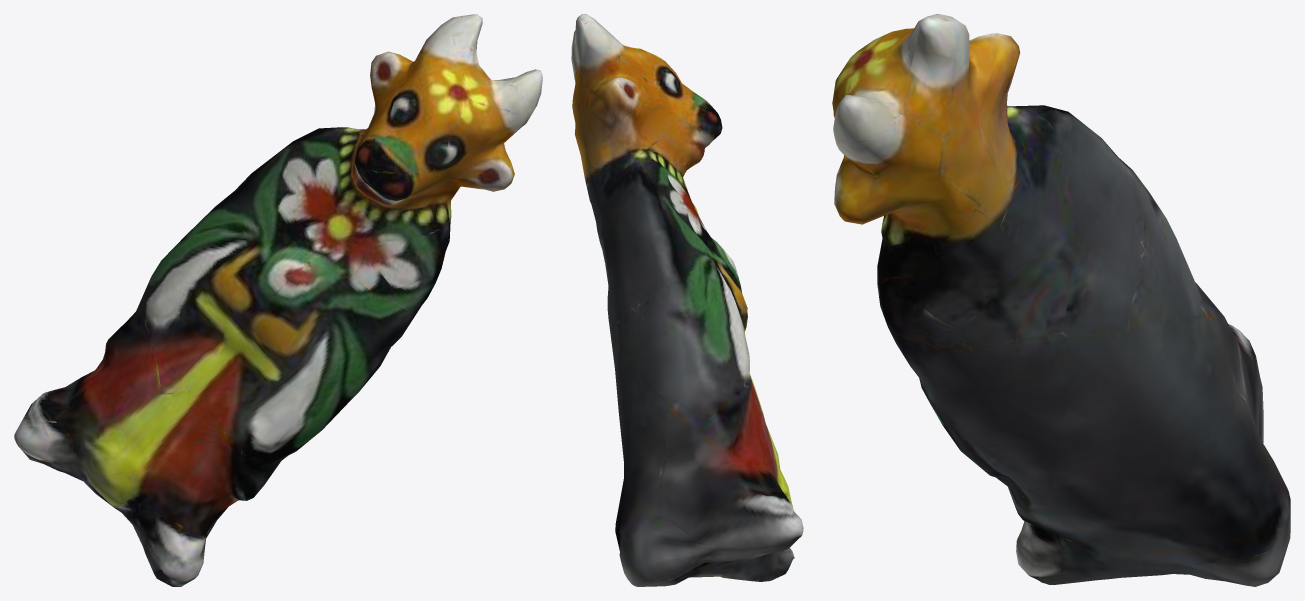
Rendered from hall.glb.
3 renders of one model, left to right at view 1: azimuth 30°, elevation 25°; view 2: azimuth 150°, elevation 25°; view 3: azimuth 270°, elevation 25°, orthographic. The views are drawn at different scales.
Size of the model in its own units: 0.5921 by 0.7854 by 0.4468.
Materials: 1 (1 with a texture image).
